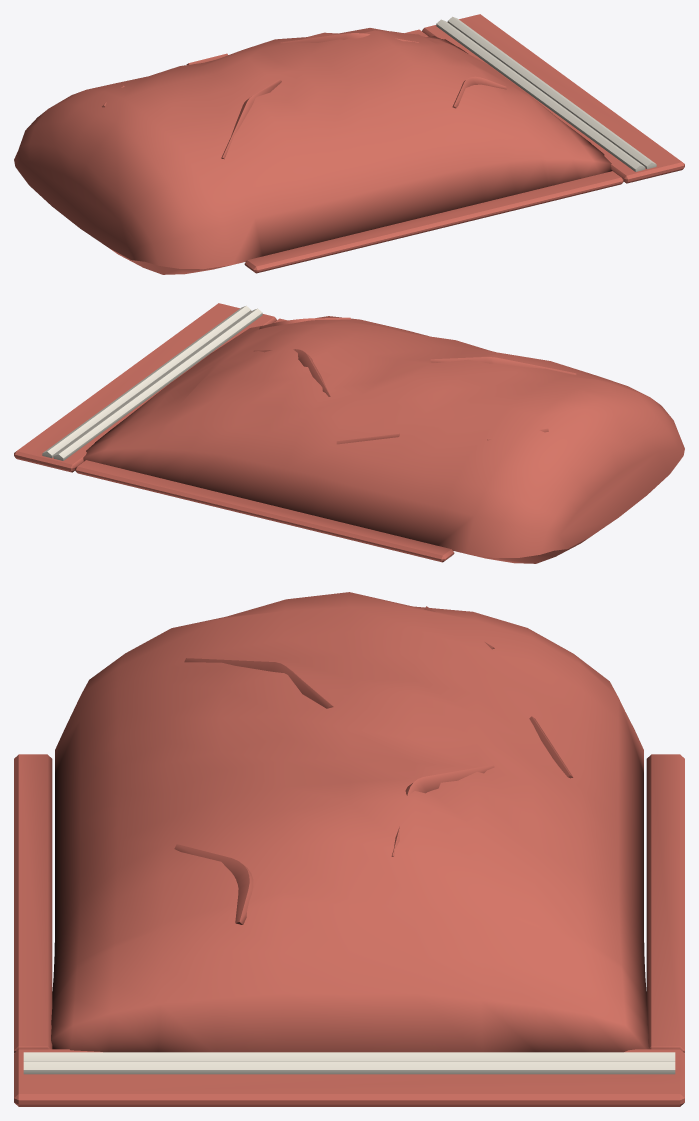
The model's file is food_nuts_old.glb.
3 views of the same model, one above another, from view 1: azimuth 30°, elevation 25°; view 2: azimuth 150°, elevation 25°; view 3: azimuth 270°, elevation 25° (orthographic). The views are drawn at different scales.
Parts seen in each view (by area): view 1: PART; view 2: PART; view 3: PART.
Part boxes in pixels (x1=…): PART: x1=14, y1=14, x2=684, y2=274; PART: x1=14, y1=303, x2=684, y2=563; PART: x1=14, y1=592, x2=684, y2=1106.
Size of the model in its own units: 0.1985 by 0.0429 by 0.14.
